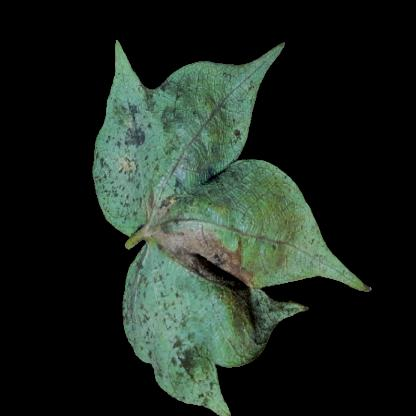curl_stage2: (241, 176, 314, 251), (201, 66, 243, 108)
sooty: (132, 283, 211, 395), (108, 105, 176, 221), (172, 228, 252, 291)
